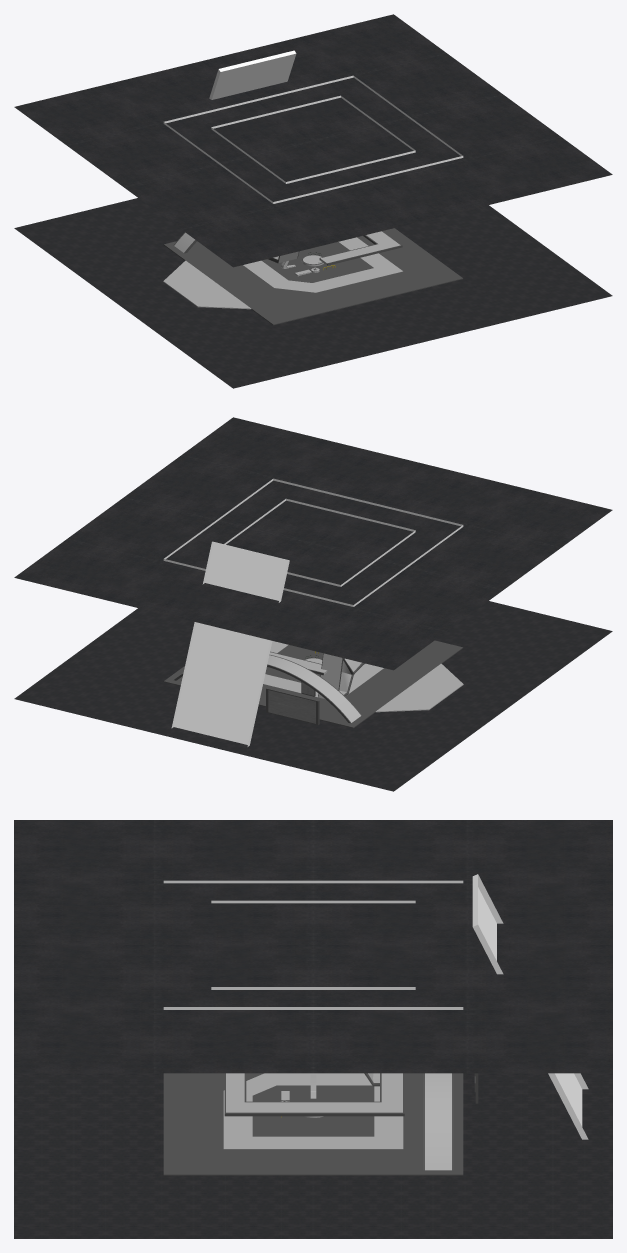
The model's file is Virtual Museum.fbx.
The picture shows the model from 3 angles, top to bottom: view 1: azimuth 30°, elevation 25°; view 2: azimuth 150°, elevation 25°; view 3: azimuth 270°, elevation 25°; orthographic projection. The views are drawn at different scales.
Parts seen in each view (by area): view 1: Plane002, Plane001, Box001, Box022, Box023, Box003, Box002, Box021; view 2: Plane002, Plane001, Box023, Box001, Box022, Box002, Box027, Box024, Box004, Box003; view 3: Plane002, Plane001, Box001, Box003, Box021, Box022, Box027, Box023.
Boxes of the visible parts, <box> form: Plane002: <box>14,14,612,267</box>; Plane001: <box>14,198,612,388</box>; Box001: <box>163,228,463,325</box>; Box022: <box>163,75,463,203</box>; Box023: <box>209,50,296,99</box>; Box003: <box>243,237,402,292</box>; Box002: <box>163,260,251,309</box>; Box021: <box>319,231,402,265</box>; Plane002: <box>14,417,612,670</box>; Plane001: <box>14,601,612,791</box>; Box023: <box>171,541,289,746</box>; Box001: <box>163,640,463,728</box>; Box022: <box>163,478,463,606</box>; Box002: <box>375,663,463,712</box>; Box027: <box>174,654,361,723</box>; Box024: <box>266,688,319,725</box>; Box004: <box>318,653,364,698</box>; Box003: <box>263,641,383,698</box>; Plane002: <box>14,820,612,1073</box>; Plane001: <box>14,1073,612,1238</box>; Box001: <box>163,1073,463,1175</box>; Box003: <box>223,1073,403,1149</box>; Box021: <box>224,1073,404,1116</box>; Box022: <box>163,880,463,1009</box>; Box027: <box>423,1073,453,1170</box>; Box023: <box>472,874,588,1139</box>.
Bounding box in the file's own units: 100 × 47.1 × 100.
